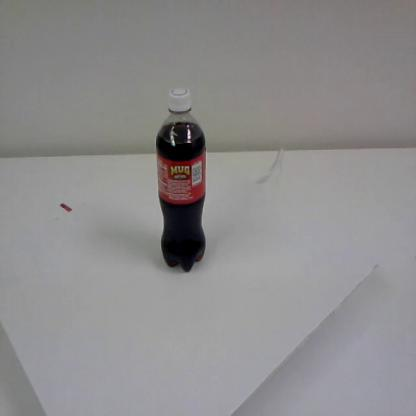bottle: (155, 83, 207, 273)
